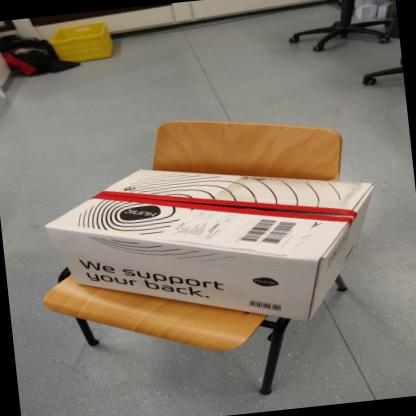box: (19, 142, 394, 352)
